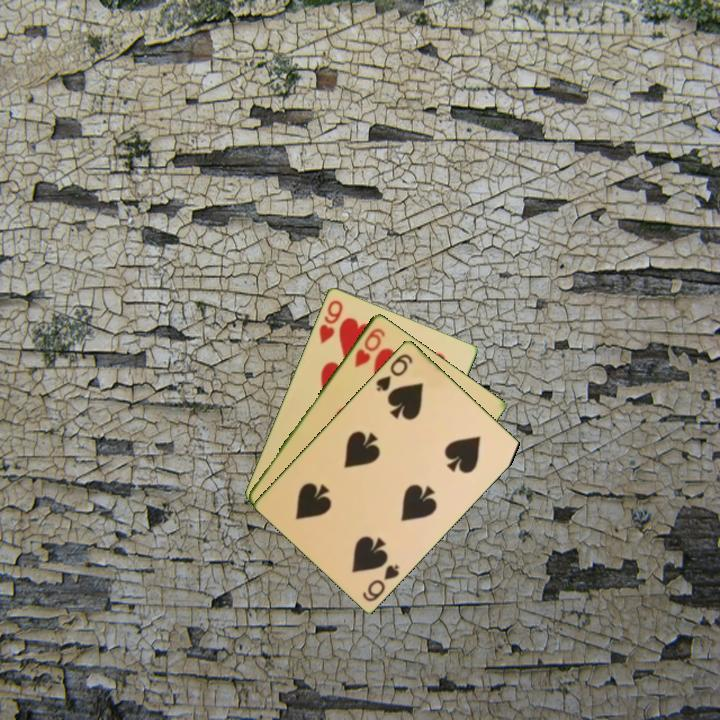6h: (351, 324, 388, 370)
6s: (372, 350, 416, 394), (359, 561, 402, 604)
9h: (315, 296, 346, 346)
